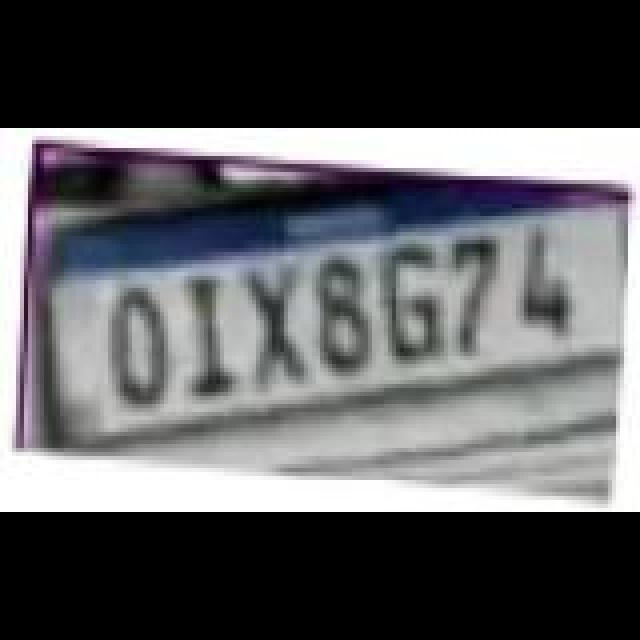4: (518, 230, 578, 338)
7: (444, 238, 508, 354)
8: (312, 260, 376, 380)
G: (376, 244, 448, 364)
I: (184, 278, 240, 402)
O: (110, 288, 178, 408)
X: (244, 266, 316, 390)
